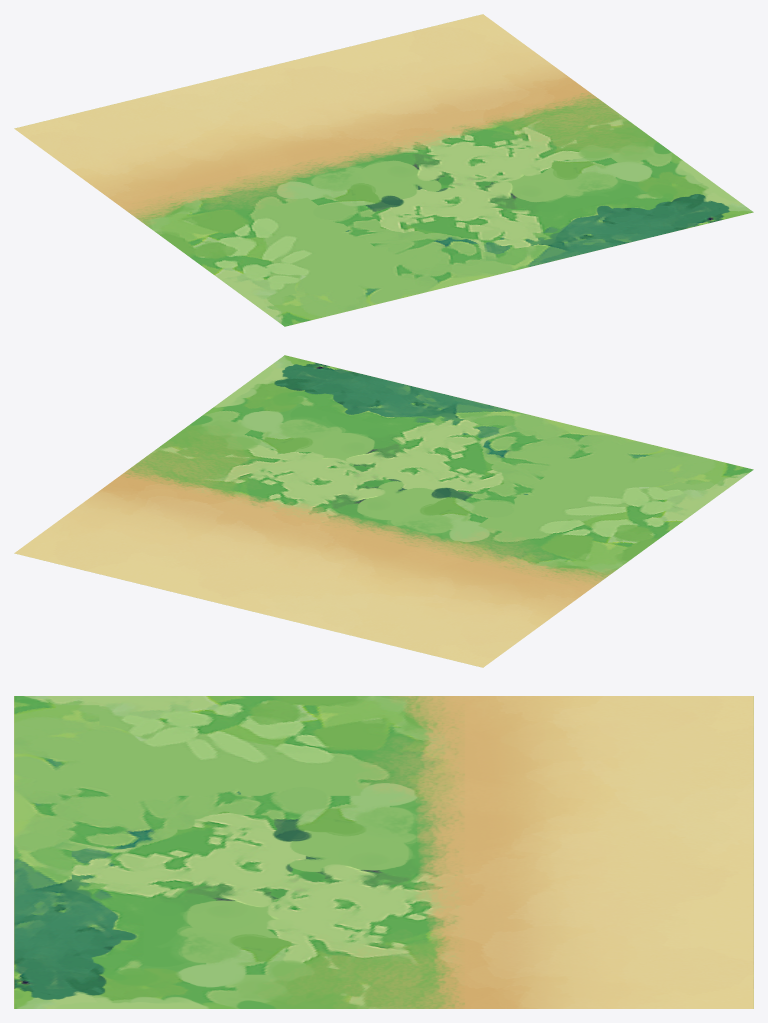
The model's file is env_tiles_mesh_04.fbx.
3 renders of one model, top to bottom at view 1: azimuth 30°, elevation 25°; view 2: azimuth 150°, elevation 25°; view 3: azimuth 270°, elevation 25°, orthographic. The views are drawn at different scales.
Parts seen in each view (by area): view 1: T4; view 2: T4; view 3: T4.
Boxes of the visible parts, <box> form: T4: <box>14,14,753,326</box>; T4: <box>14,355,753,667</box>; T4: <box>14,696,753,1008</box>.
Bounding box in the file's own units: 1000 × 0 × 1000.
